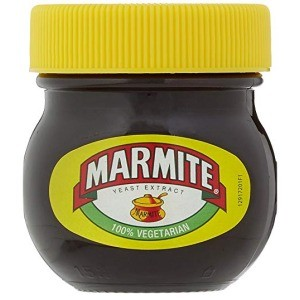yeast spread_brain food: (50, 93, 263, 267)
